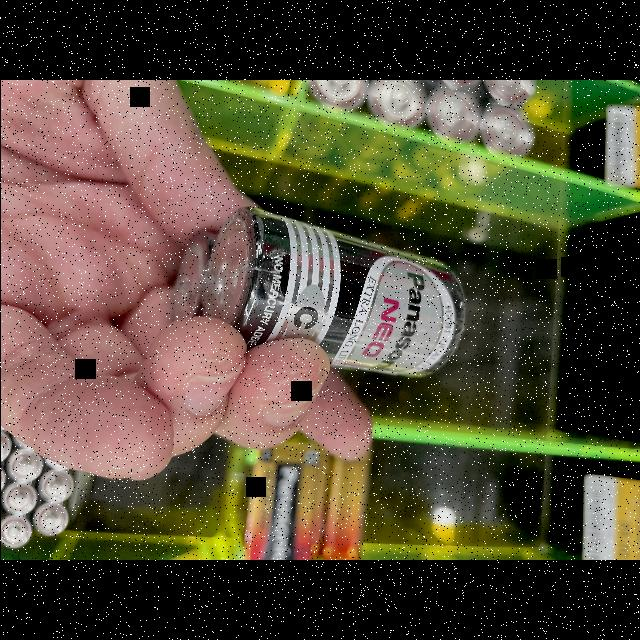battery: (165, 198, 483, 397), (277, 80, 539, 210), (240, 426, 374, 560), (0, 386, 94, 560)
